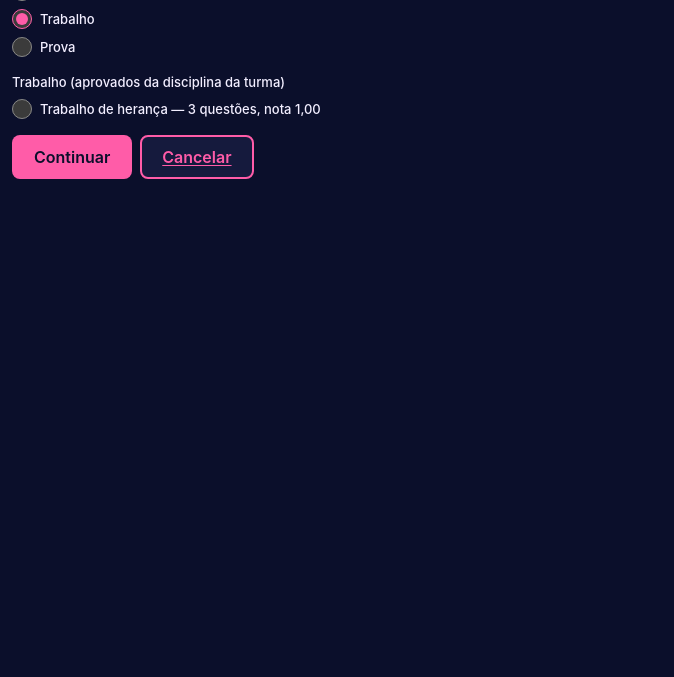
Test case: 012/US1 NewActivity — aplicar trabalho ou exercícios à turma › 012/US1-5 erros por campo ligados: publicação agendada sem data, prazo vazio e prazo antes da publicação
Click the radio button labelled "Trabalho de herança — 3 questões, nota 1,00" at (22, 109), box [12,99,32,119]
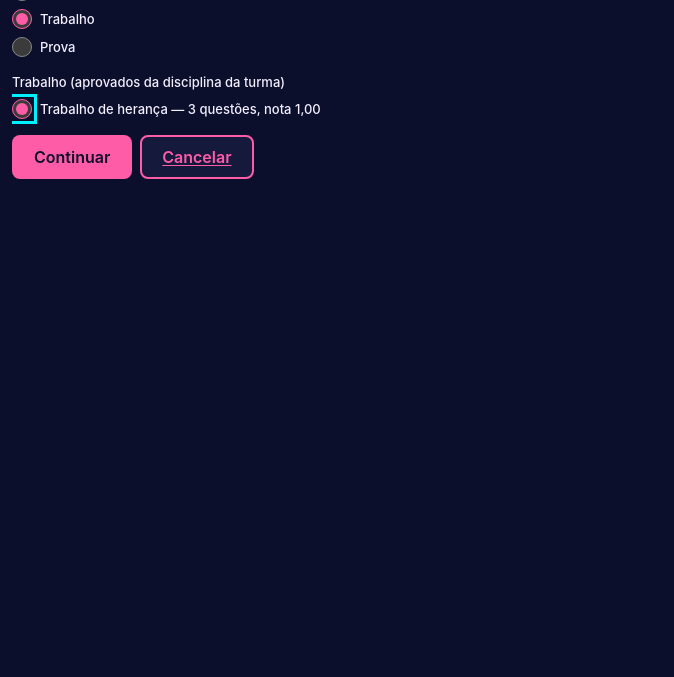
Click the button "Continuar" at (72, 157), box [12,135,132,179]
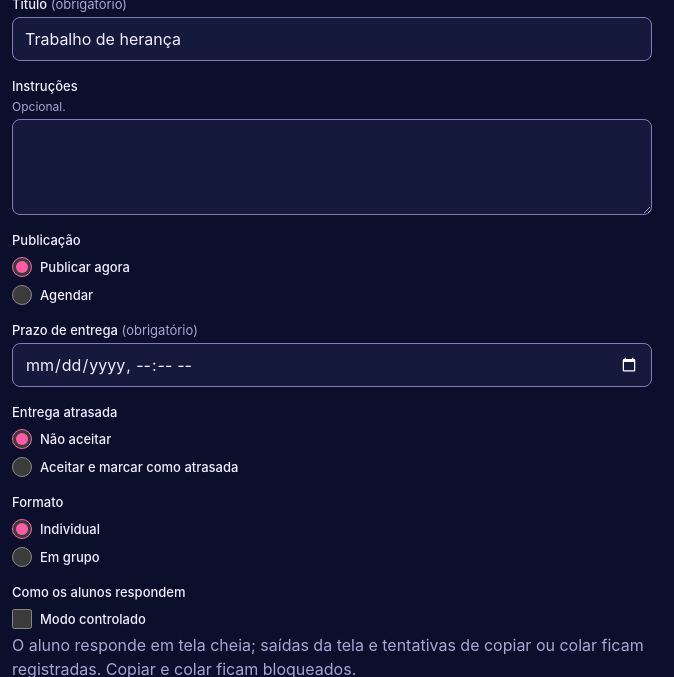
Click the radio button labelled "Agendar" at (22, 295), box [12,285,32,305]
(page scrolled)
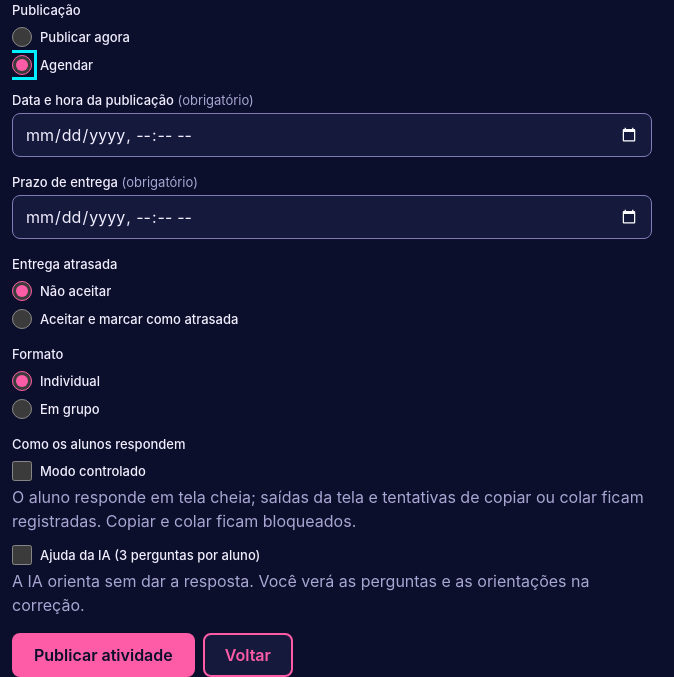
Click the button "Publicar atividade" at (103, 655), box [12,633,195,676]
(page scrolled)
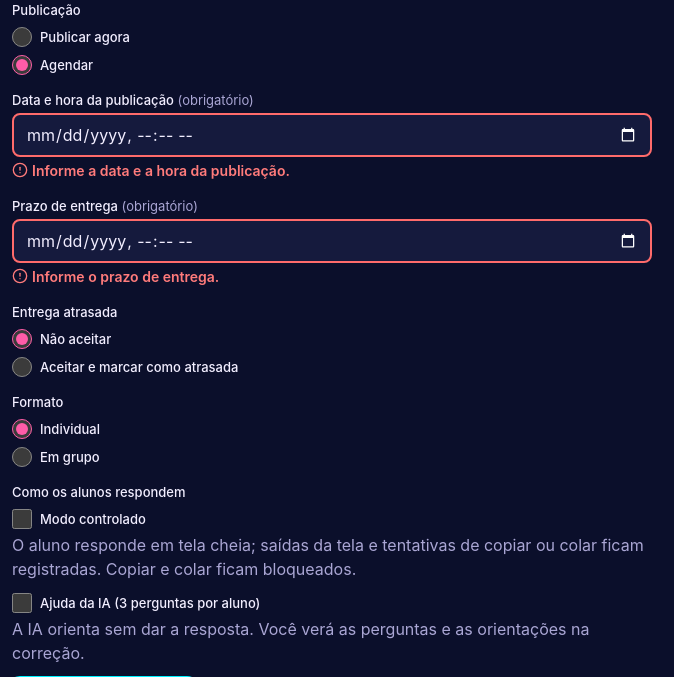
Type "2030-10-11T08:00" into the field labelled "Data e hora da publicação (obrigatório)" at (332, 135), box [12,113,652,157]
Type "2030-10-10T23:59" into the field labelled "Prazo de entrega (obrigatório)" at (332, 241), box [12,219,652,263]
(page scrolled)
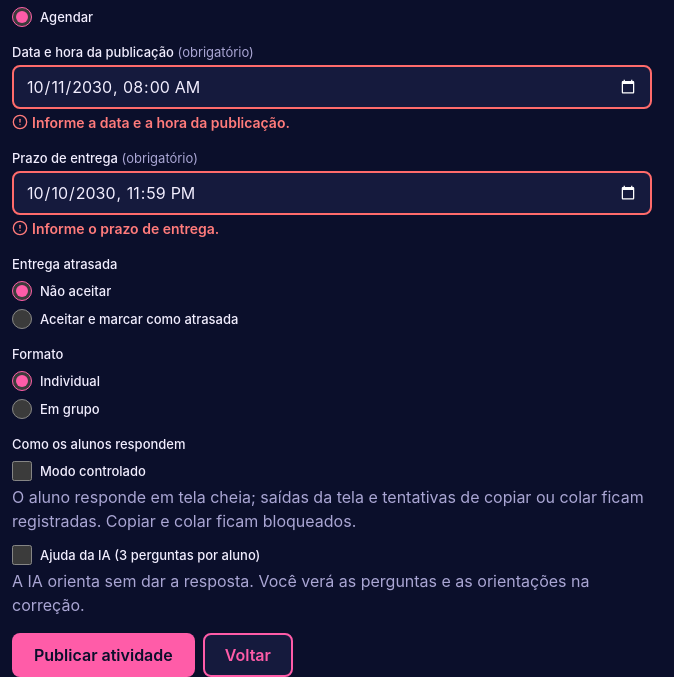
Click the button "Publicar atividade" at (103, 655), box [12,633,195,676]
(page scrolled)
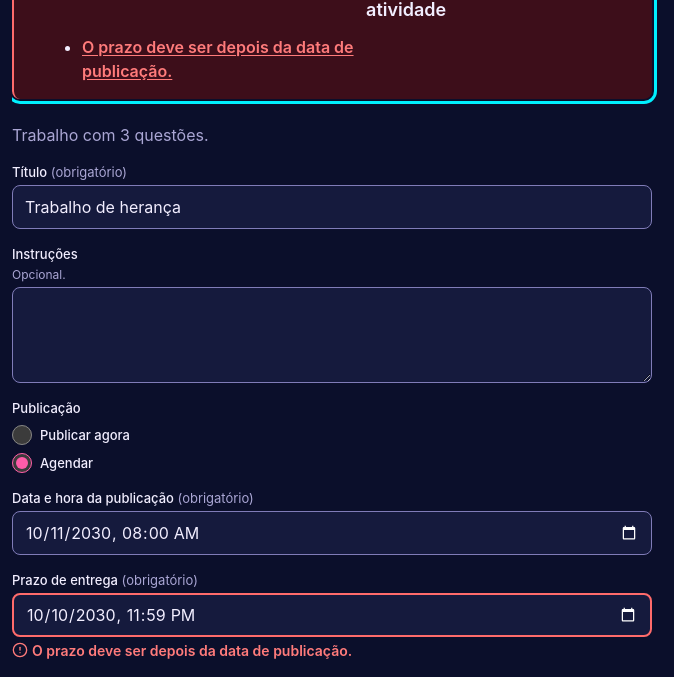
Result: the link "O prazo deve ser depois da data de publicação." is shown at [82,37,354,81]
